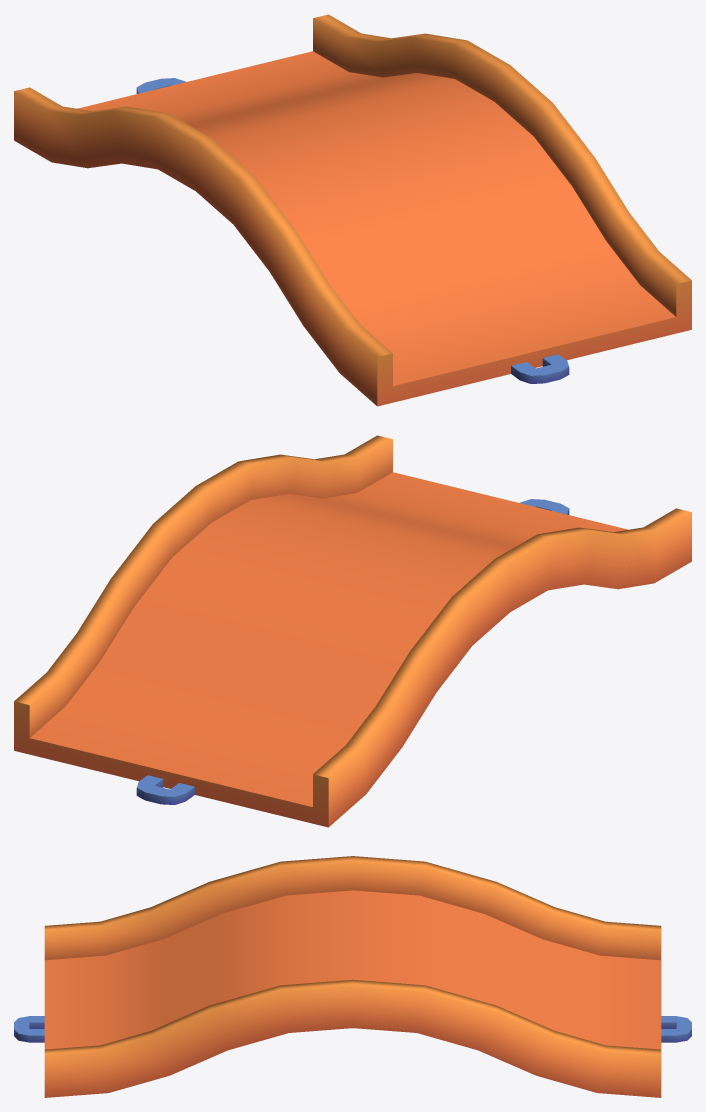
Rendered from track-wide-straight-bump-up.glb.
3 views of the same model, one above another, from view 1: azimuth 30°, elevation 25°; view 2: azimuth 150°, elevation 25°; view 3: azimuth 270°, elevation 25° (orthographic). The views are drawn at different scales.
Parts seen in each view (by area): view 1: track-wide-straight-bump-up; view 2: track-wide-straight-bump-up; view 3: track-wide-straight-bump-up.
Boxes of the visible parts, bbox=[...] form: track-wide-straight-bump-up: bbox=[14, 14, 691, 406]; track-wide-straight-bump-up: bbox=[14, 435, 691, 827]; track-wide-straight-bump-up: bbox=[14, 856, 691, 1097].
Bounding box in the file's own units: 6 × 2.4 × 13.2.
1 material, 1 textured.
